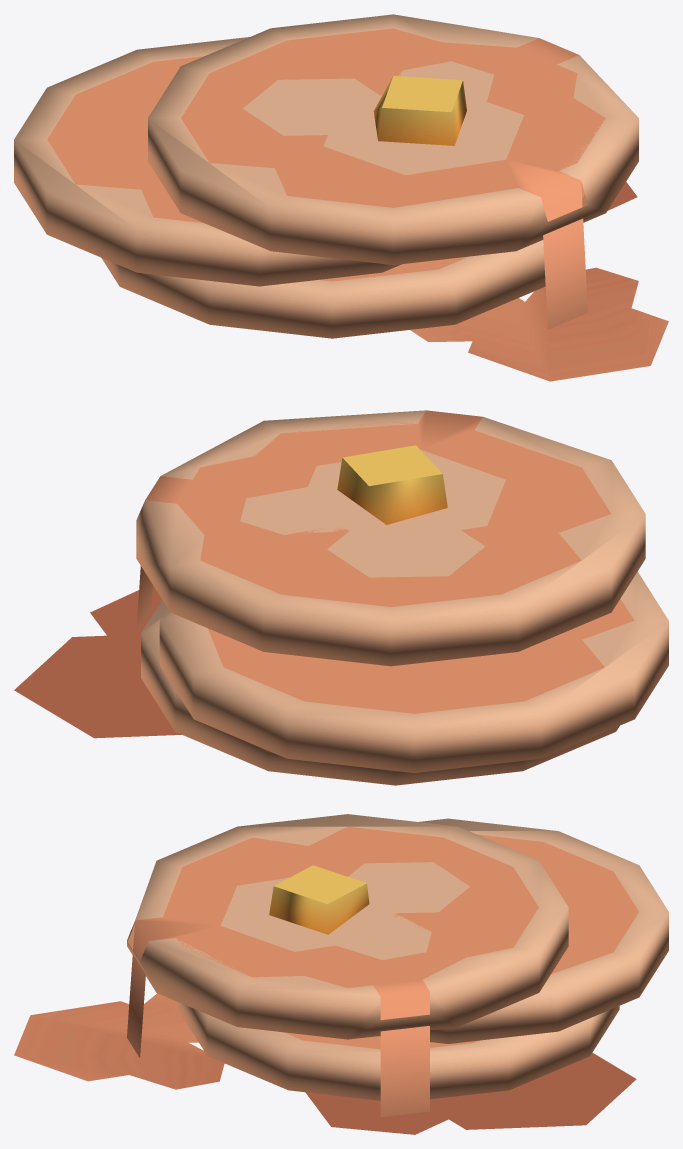
The model's file is cc0-pancake-lod1.glb.
3 views of the same model, one above another, from view 1: azimuth 30°, elevation 25°; view 2: azimuth 150°, elevation 25°; view 3: azimuth 270°, elevation 25° (orthographic). The views are drawn at different scales.
Parts seen in each view (by area): view 1: part_0; view 2: part_0; view 3: part_0.
Boxes of the visible parts, x1,y1,x2,y2 form: part_0: (14,14,668,381); part_0: (14,410,668,785); part_0: (14,814,668,1134).
Bounding box in the file's own units: 0.4288 × 0.1216 × 0.4972.
Materials: 1 (1 with a texture image).
